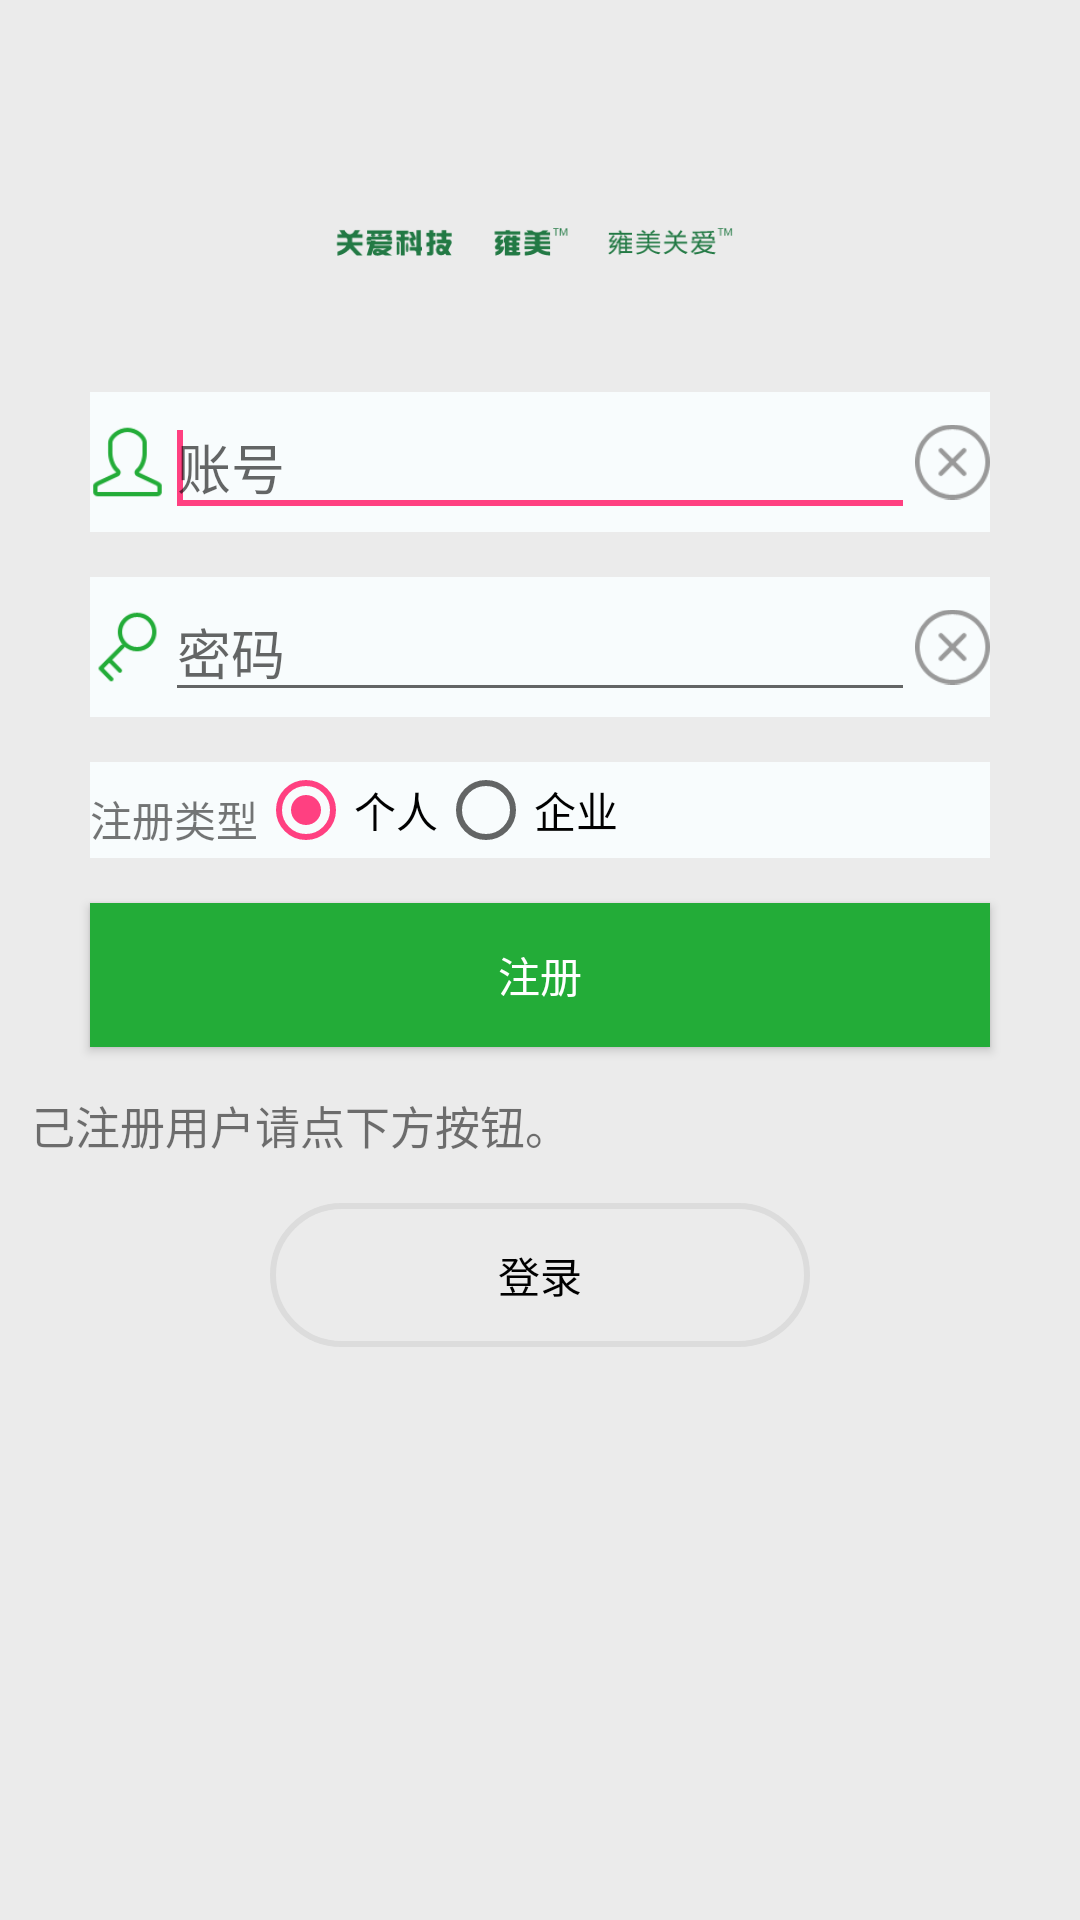

Named icons in this screenshot (1080 × 1920) and their centers, [x,y]:
重填: [952,462], [952,647]
